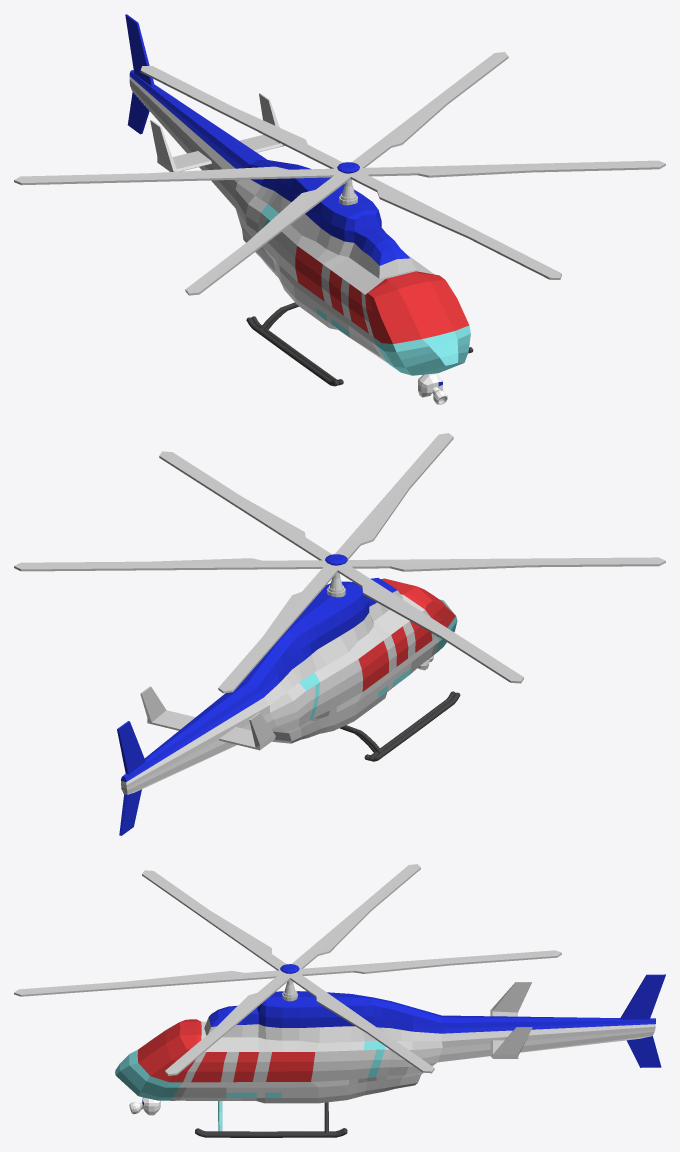
The model's file is helicopter.glb.
3 renders of one model, top to bottom at view 1: azimuth 30°, elevation 25°; view 2: azimuth 150°, elevation 25°; view 3: azimuth 270°, elevation 25°, orthographic. The views are drawn at different scales.
Parts seen in each view (by area): view 1: Plane.002, propeller, window; view 2: Plane.002, propeller, window; view 3: Plane.002, propeller, window.
Part boxes in pixels (x1=…): Plane.002: x1=125, y1=14, x2=473, y2=404; propeller: x1=14, y1=52, x2=665, y2=295; window: x1=295, y1=246, x2=468, y2=343; Plane.002: x1=117, y1=554, x2=460, y2=835; propeller: x1=14, y1=433, x2=665, y2=693; window: x1=358, y1=578, x2=455, y2=691; Plane.002: x1=115, y1=964, x2=665, y2=1137; propeller: x1=14, y1=864, x2=561, y2=1075; window: x1=137, y1=1019, x2=315, y2=1082.
Bounding box in the file's own units: 12.47 × 4.05 × 16.34.
